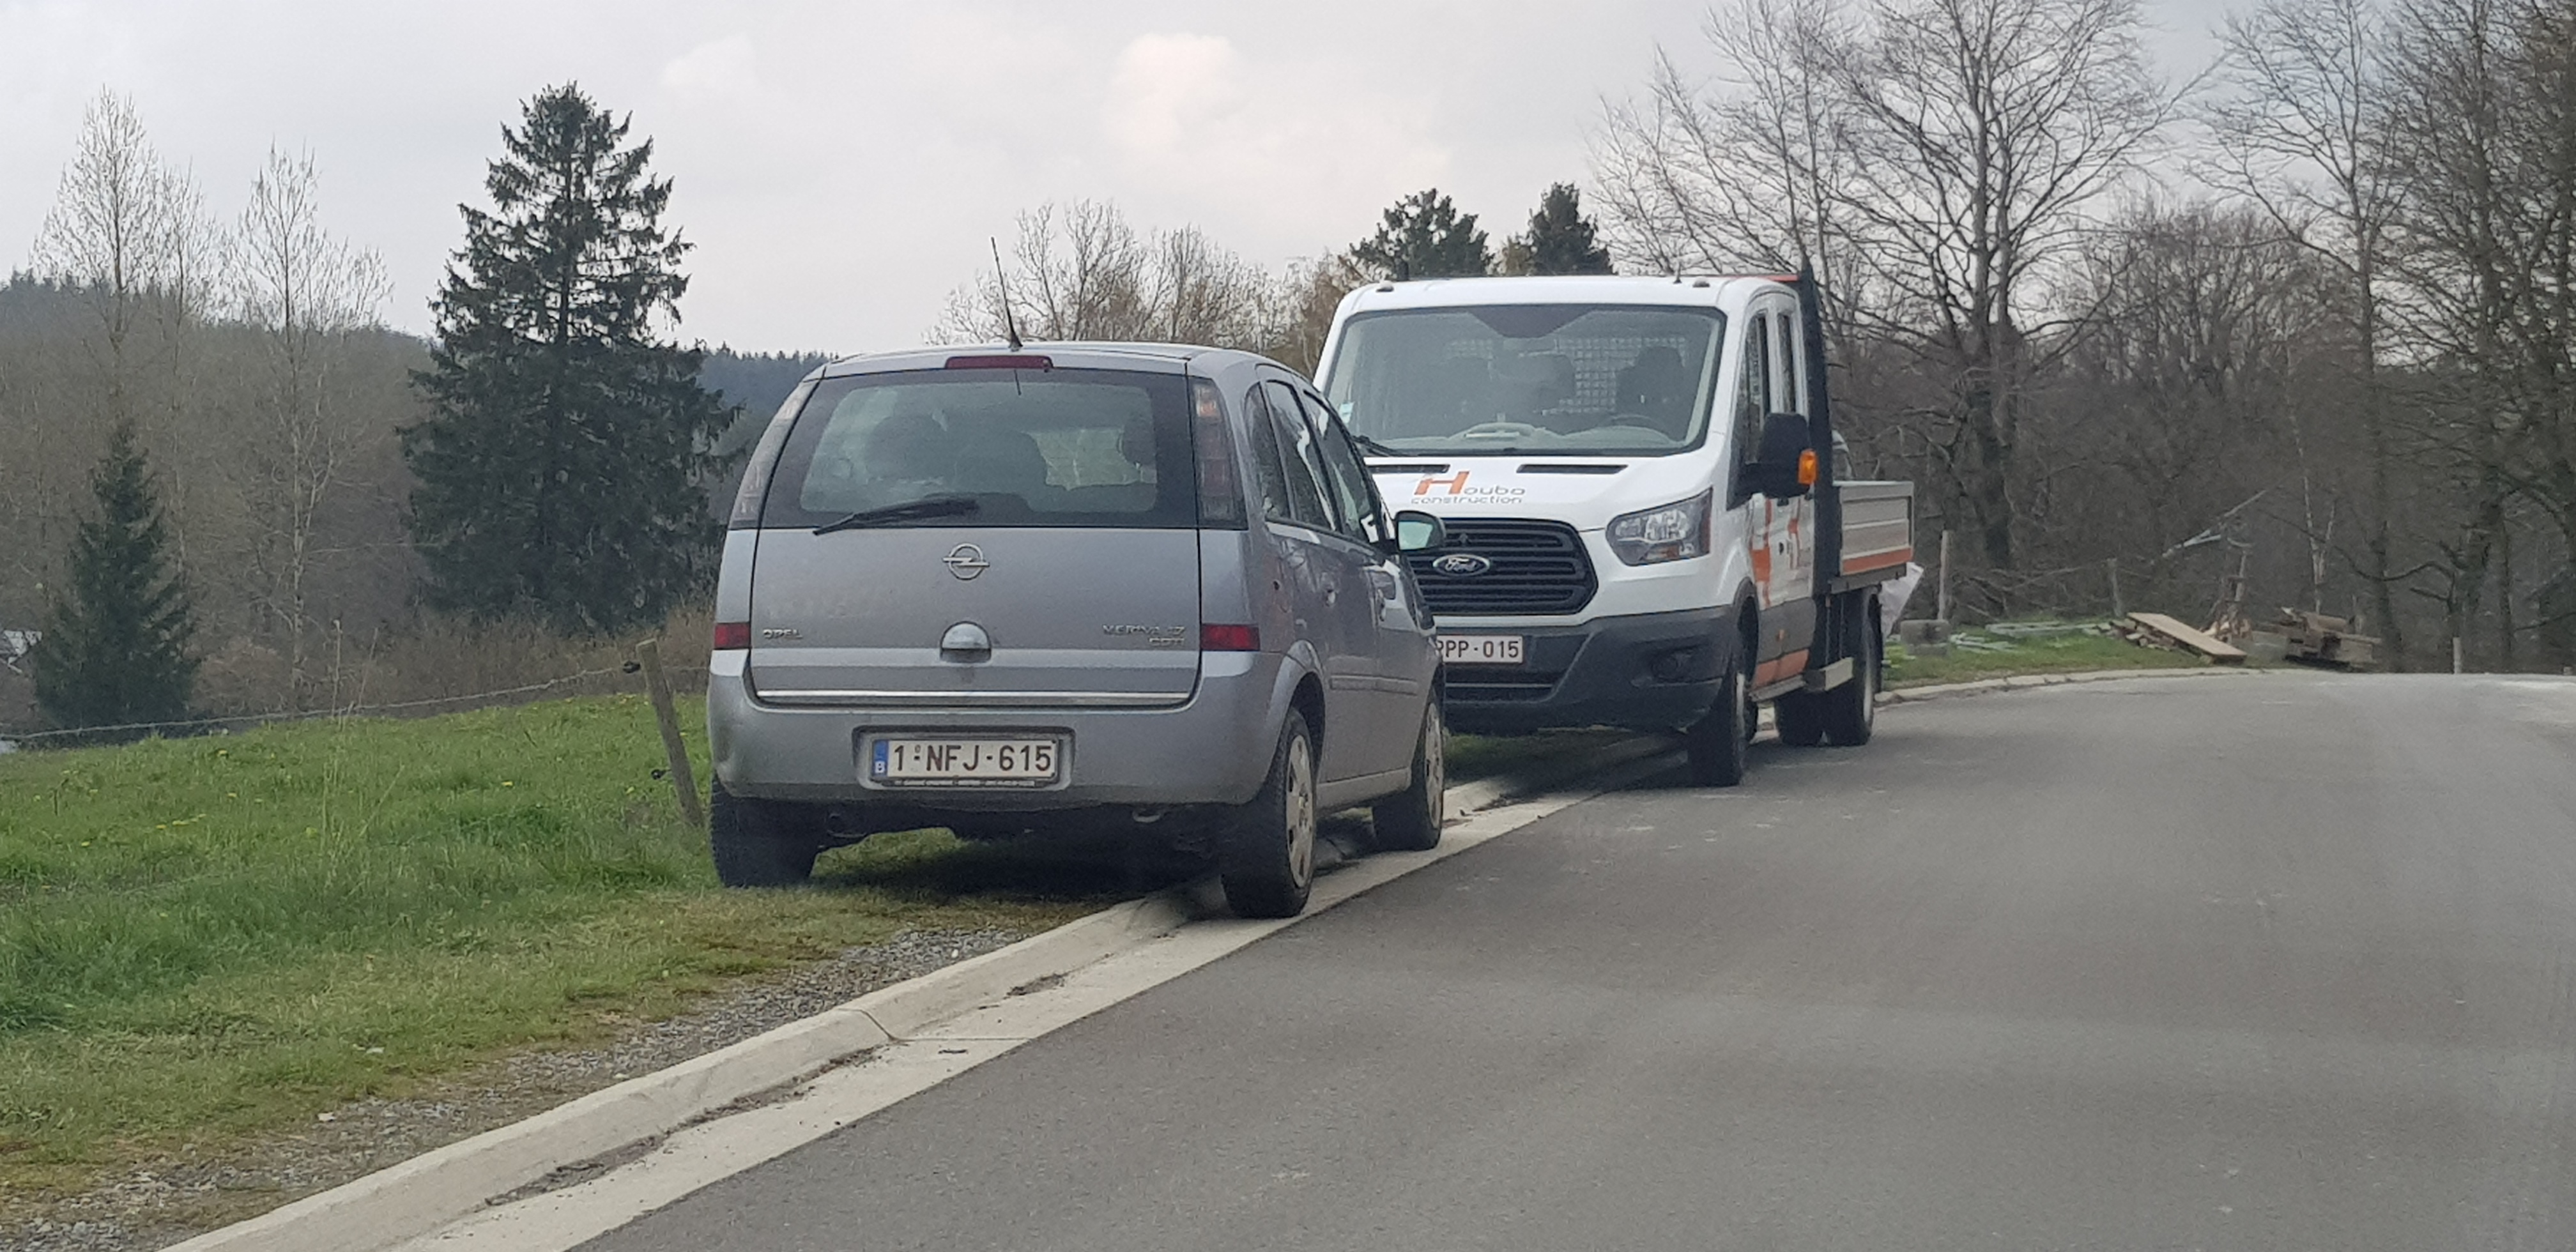licenceplate: (868, 735, 1058, 784), (1437, 633, 1527, 662)
